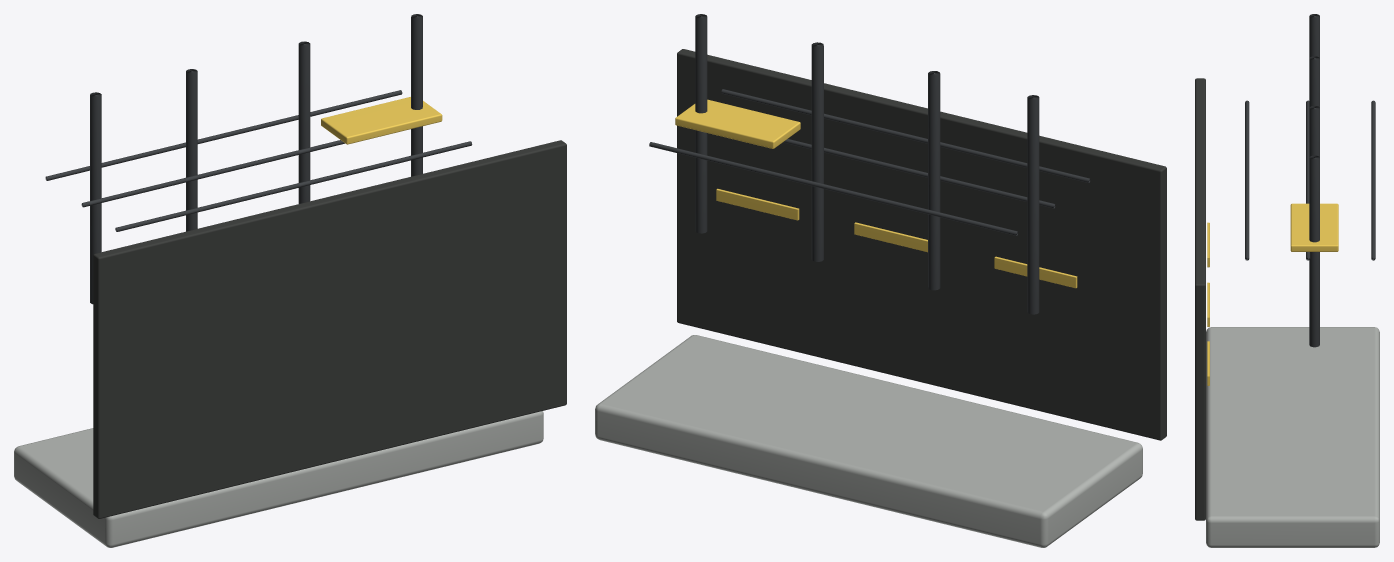
File: prop_ground_wall_fence_final.glb
3 views of the same model, side by side, from view 1: azimuth 30°, elevation 25°; view 2: azimuth 150°, elevation 25°; view 3: azimuth 270°, elevation 25° (orthographic). The views are drawn at different scales.
Parts seen in each view (by area): view 1: asphalt_road_patch_with_beveled_edge, cast_concrete_wall_segment, sliding_gate_warning_plate, chainlink_fence_post_-0.82, chainlink_fence_post_0.18, fence_horizontal_wire_0.24, chainlink_fence_post_-0.36, fence_horizontal_wire_0.82, chainlink_fence_post_0.72, fence_horizontal_wire_0.52; view 2: asphalt_road_patch_with_beveled_edge, cast_concrete_wall_segment, sliding_gate_warning_plate, chainlink_fence_post_-0.82, chainlink_fence_post_0.18, chainlink_fence_post_-0.36, chainlink_fence_post_0.72, fence_horizontal_wire_0.82, fence_horizontal_wire_0.24, fence_horizontal_wire_0.52, worn_road_marking_0.74, worn_road_marking_0.1 (+1 smaller); view 3: cast_concrete_wall_segment, asphalt_road_patch_with_beveled_edge, sliding_gate_warning_plate, chainlink_fence_post_0.72, fence_horizontal_wire_0.24, fence_horizontal_wire_0.82, chainlink_fence_post_-0.36, chainlink_fence_post_0.18, chainlink_fence_post_-0.82, fence_horizontal_wire_0.52.
Part boxes in pixels (box(x1,y1,x2,y2)): asphalt_road_patch_with_beveled_edge: box(93, 140, 566, 518); cast_concrete_wall_segment: box(14, 411, 543, 547); sliding_gate_warning_plate: box(321, 97, 442, 144); chainlink_fence_post_-0.82: box(90, 92, 101, 304); chainlink_fence_post_0.18: box(298, 41, 310, 203); fence_horizontal_wire_0.24: box(115, 141, 472, 231); chainlink_fence_post_-0.36: box(186, 69, 197, 231); fence_horizontal_wire_0.82: box(45, 90, 402, 180); chainlink_fence_post_0.72: box(411, 14, 422, 176); fence_horizontal_wire_0.52: box(81, 140, 344, 207); asphalt_road_patch_with_beveled_edge: box(677, 49, 1166, 440); cast_concrete_wall_segment: box(595, 335, 1142, 547); sliding_gate_warning_plate: box(675, 99, 800, 148); chainlink_fence_post_-0.82: box(1027, 95, 1039, 314); chainlink_fence_post_0.18: box(811, 42, 823, 261); chainlink_fence_post_-0.36: box(928, 71, 940, 290); chainlink_fence_post_0.72: box(695, 14, 707, 233); fence_horizontal_wire_0.82: box(649, 142, 1018, 235); fence_horizontal_wire_0.24: box(721, 89, 1090, 182); fence_horizontal_wire_0.52: box(783, 139, 1055, 208); worn_road_marking_0.74: box(716, 188, 799, 220); worn_road_marking_0.1: box(854, 222, 927, 252); cast_concrete_wall_segment: box(1206, 327, 1379, 547); asphalt_road_patch_with_beveled_edge: box(1195, 78, 1205, 520); sliding_gate_warning_plate: box(1290, 203, 1338, 251); chainlink_fence_post_0.72: box(1309, 155, 1319, 347); fence_horizontal_wire_0.24: box(1245, 100, 1249, 260); fence_horizontal_wire_0.82: box(1371, 100, 1375, 260); chainlink_fence_post_-0.36: box(1309, 56, 1319, 107); chainlink_fence_post_0.18: box(1309, 106, 1319, 156); chainlink_fence_post_-0.82: box(1309, 14, 1319, 57); fence_horizontal_wire_0.52: box(1306, 100, 1310, 260).
Size of the model in its own units: 2.25 by 1.83 by 0.85.
